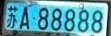A: (20, 6, 29, 29)
